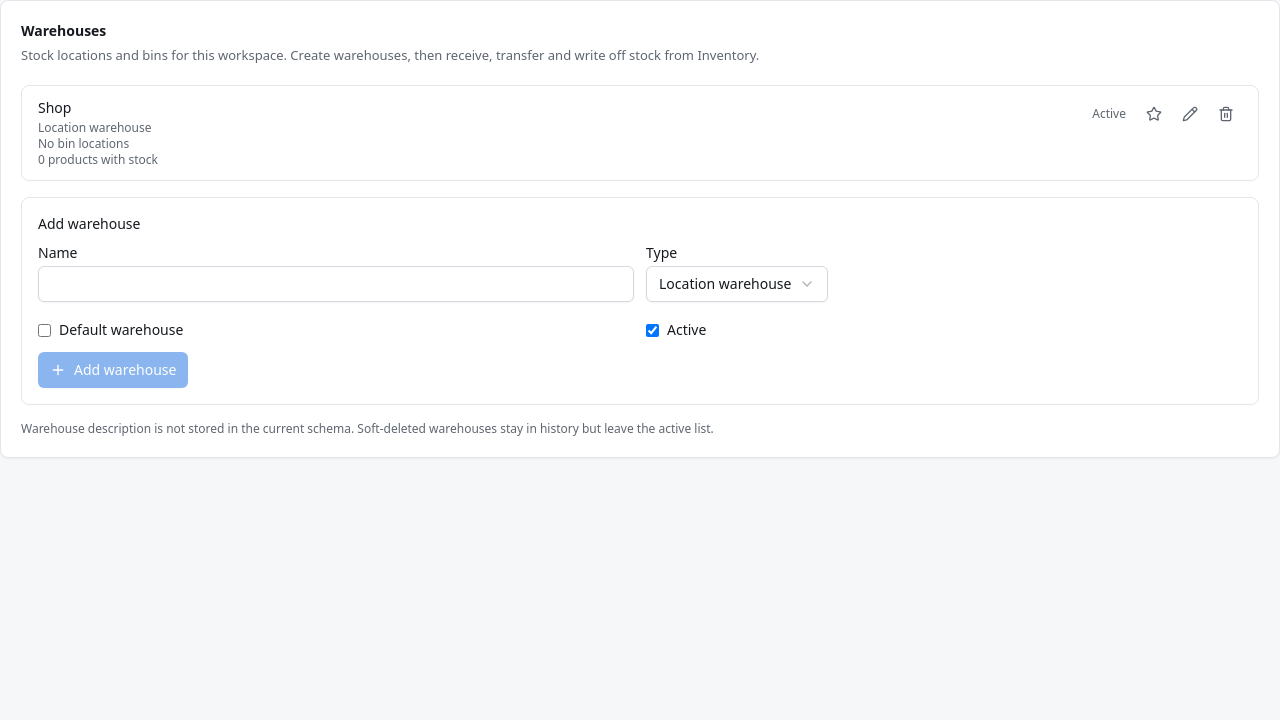
Test: WarehousesSettings delete confirm › asks via the custom dialog and deletes only after confirm
Later steps or results of the test are not shown.
Click the button named "Delete warehouse". click: (1226, 114)
box: [1210,98,1242,130]
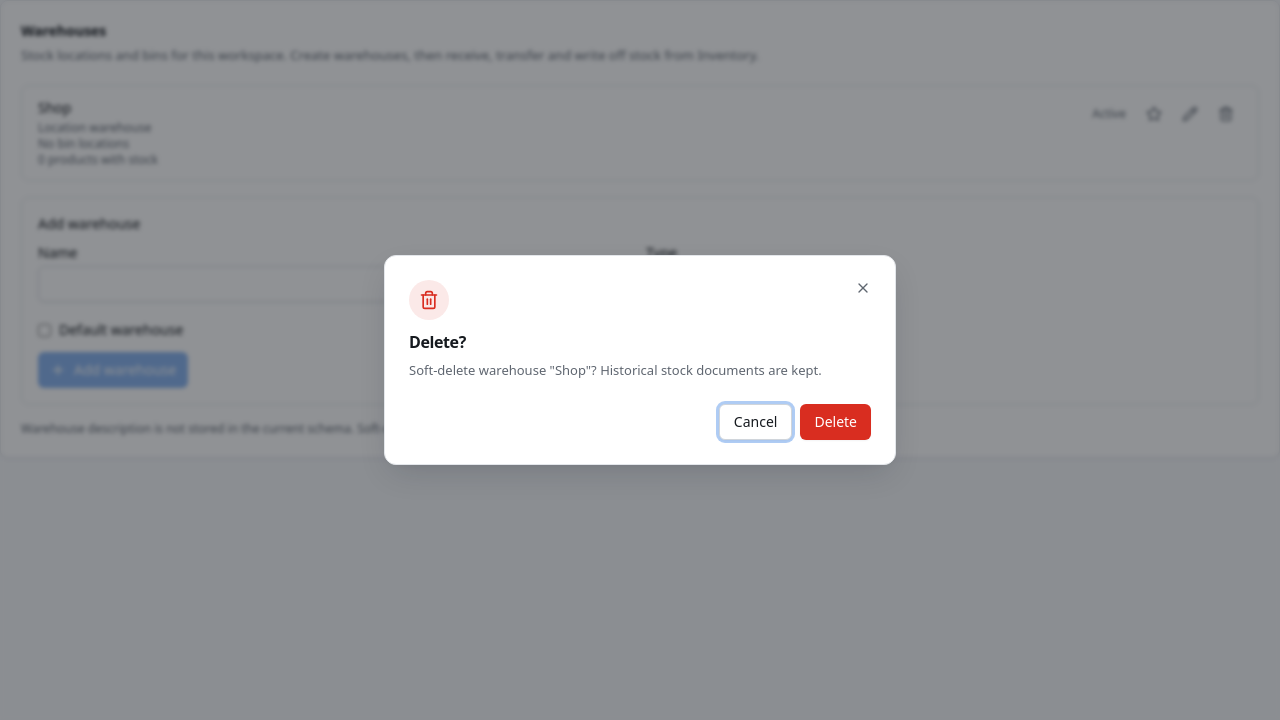
expect the dialog is shown: met, box [384,255,896,465]
expect the text "Soft-delete warehouse \"Shop\"" is shown: met, box [409,361,822,379]
Click the button "Cancel". click: (756, 422)
box: [719,404,792,440]
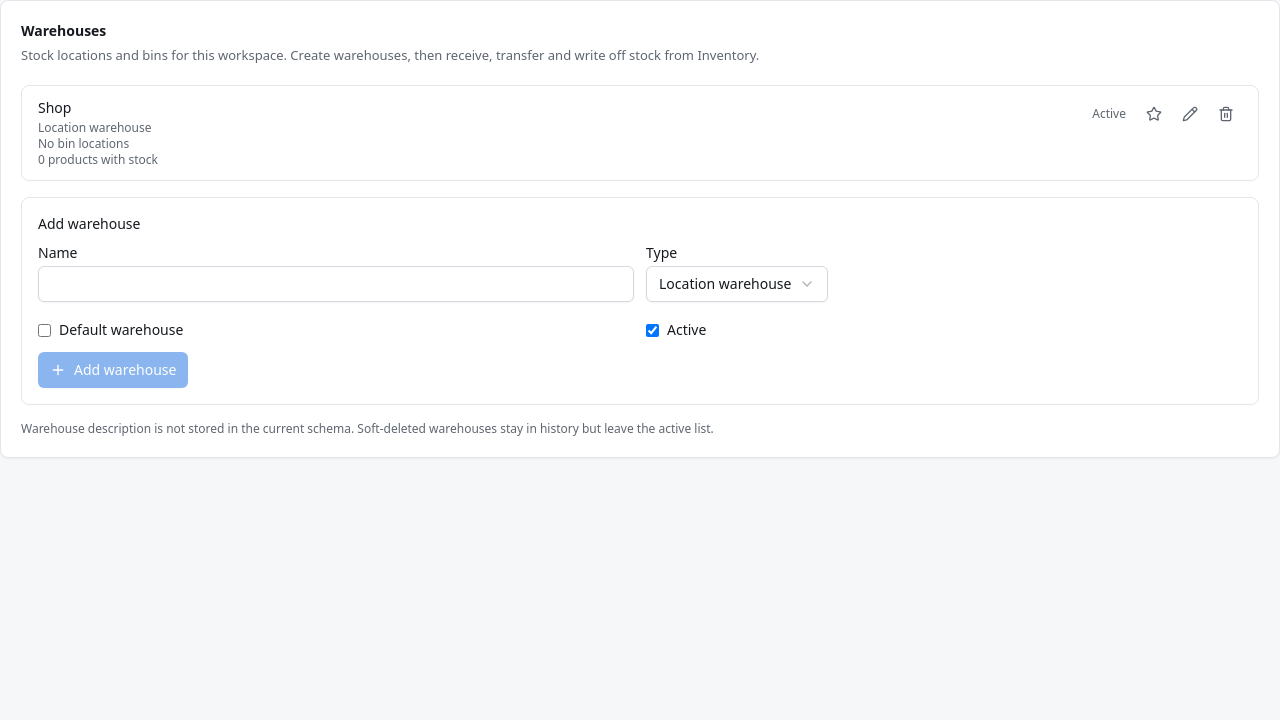
expect the dialog is gone: met
Click the button named "Delete warehouse". click: (1226, 114)
box: [1210,98,1242,130]
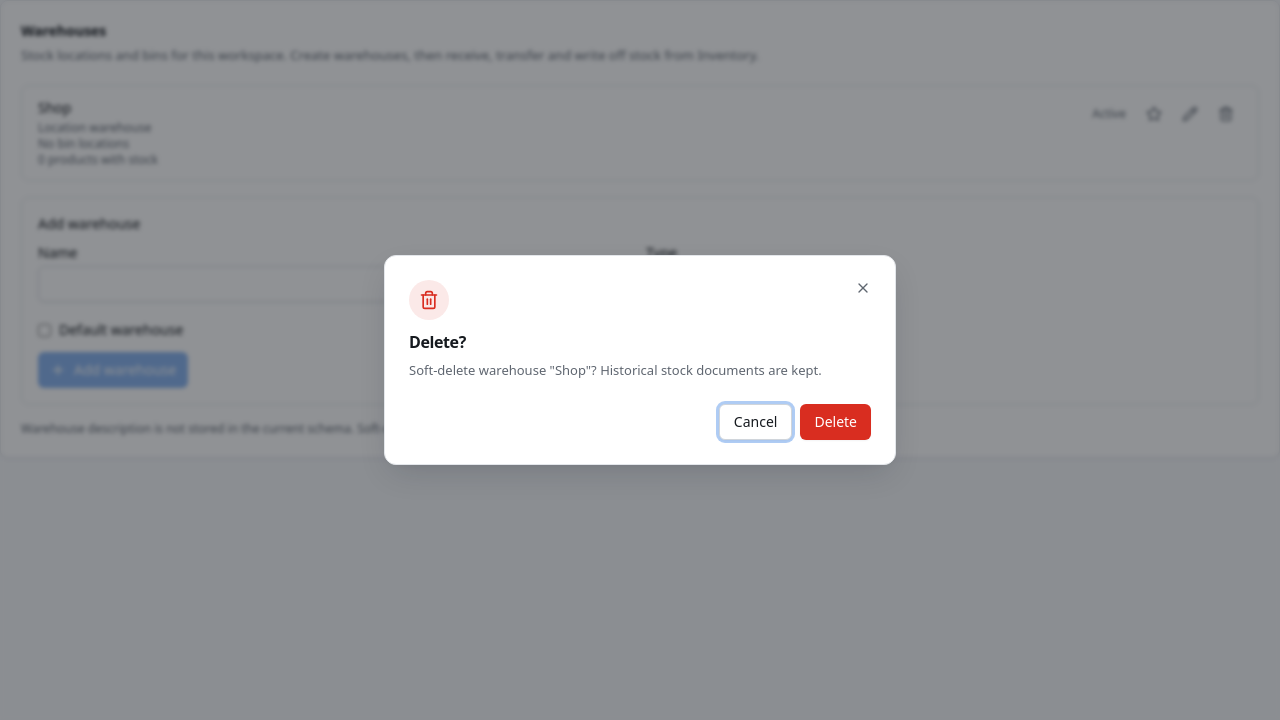
expect the dialog is shown: met, box [384,255,896,465]
